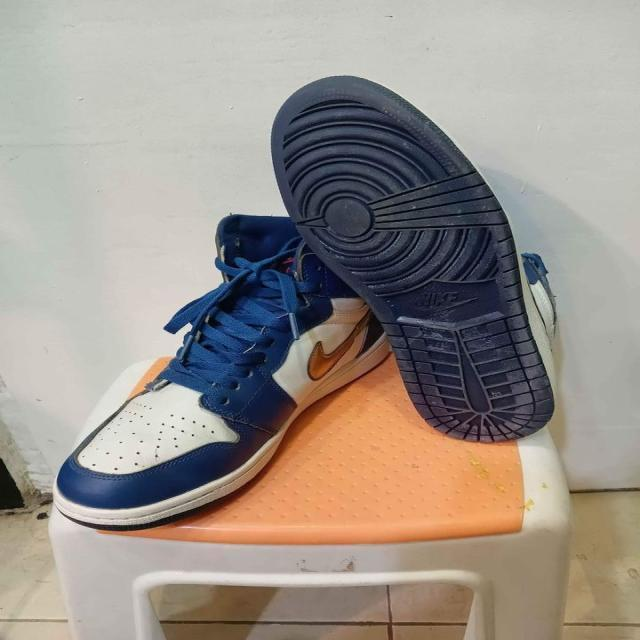nike fake jordan 1: (53, 215, 427, 530)
